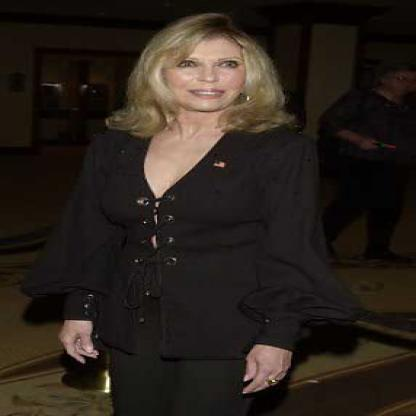face: (157, 25, 250, 115)
